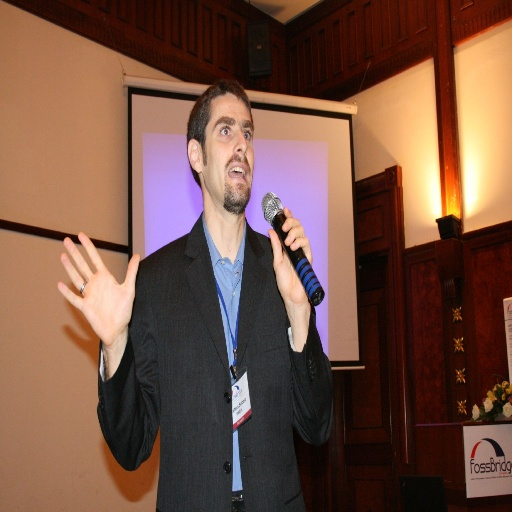hand: (55, 228, 140, 346), (268, 197, 325, 307)
